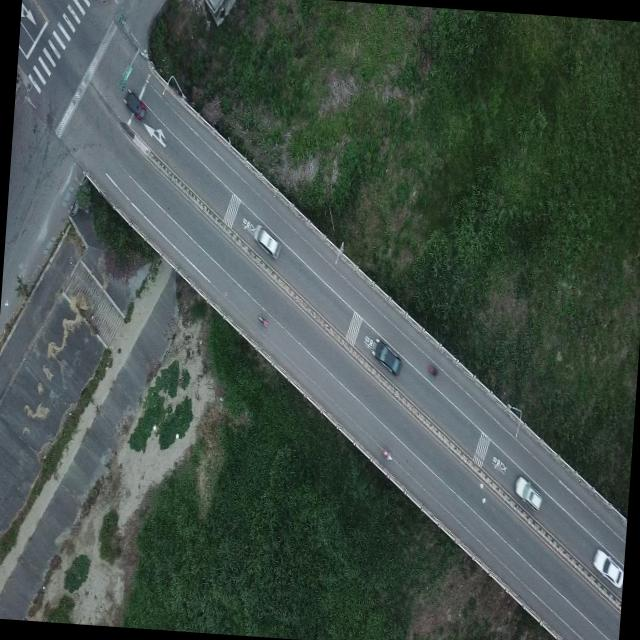bike: (256, 312, 268, 331), (382, 448, 393, 462)
car: (590, 548, 624, 588), (369, 338, 403, 374), (250, 223, 282, 260), (512, 475, 542, 511), (122, 88, 146, 120)
